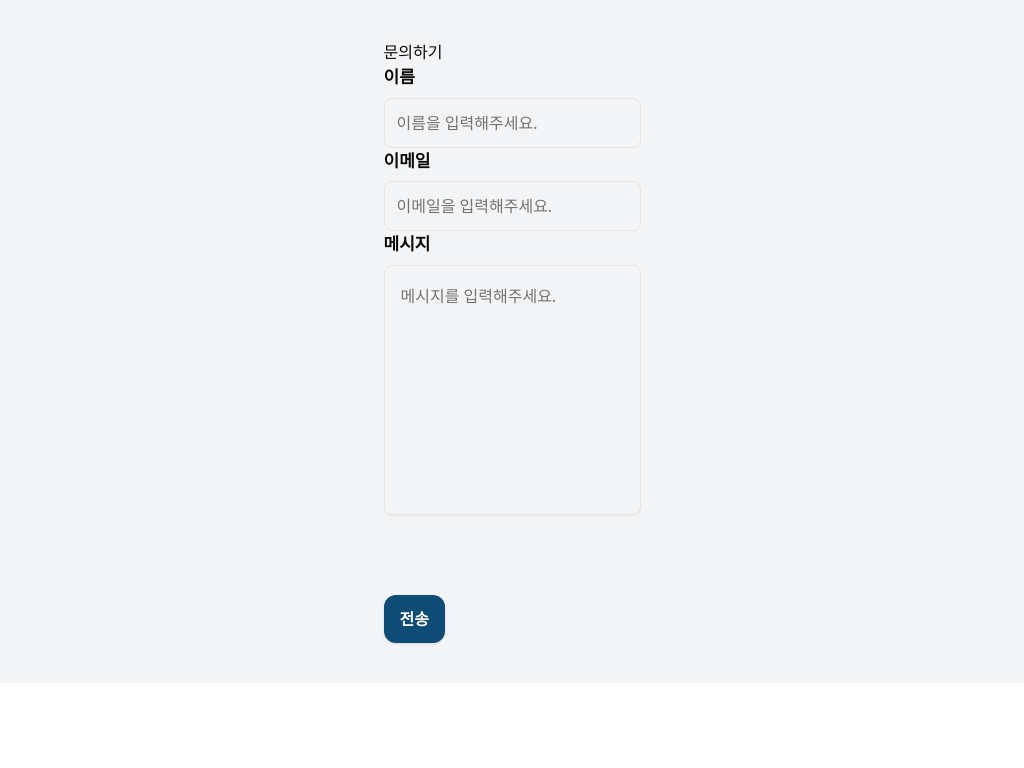
Test: src/views/contact/ui/ContactPage.tsx › 통합 테스트 › 올바른 값을 입력 후 제출할 수 있다.
In the field with placeholder "이름을 입력해주세요.": point(512, 122) [384,98,640,148], type "지민"
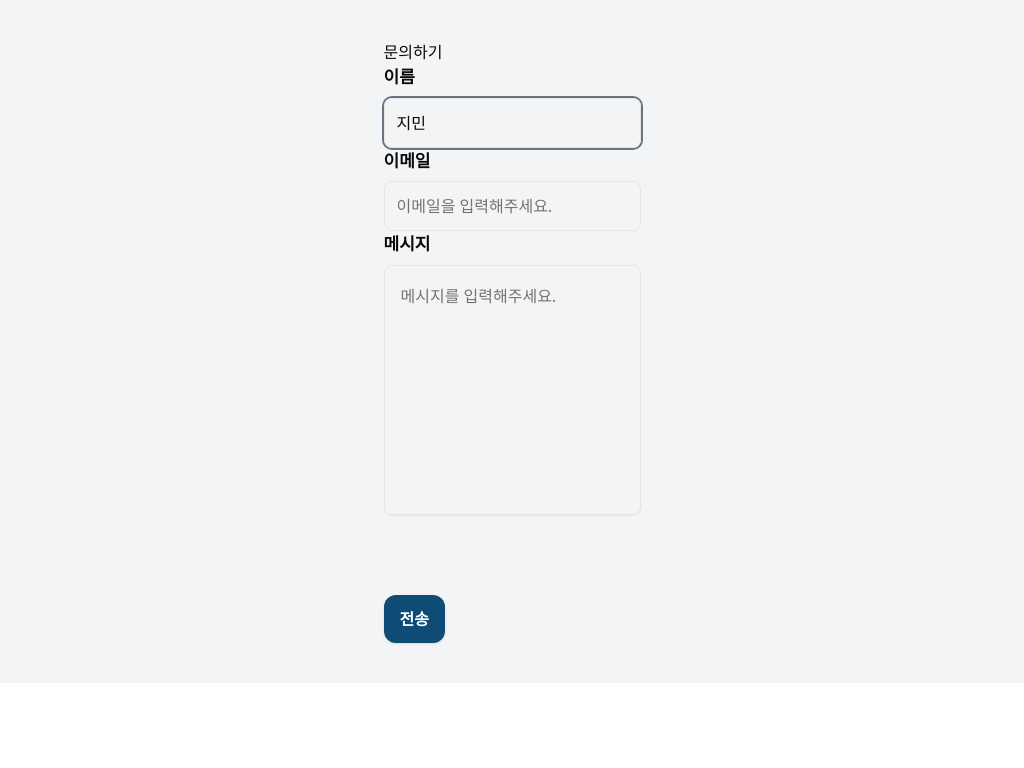
In the field with placeholder "이메일을 입력해주세요.": point(512, 206) [384,181,640,231], type "jimin@email.com"
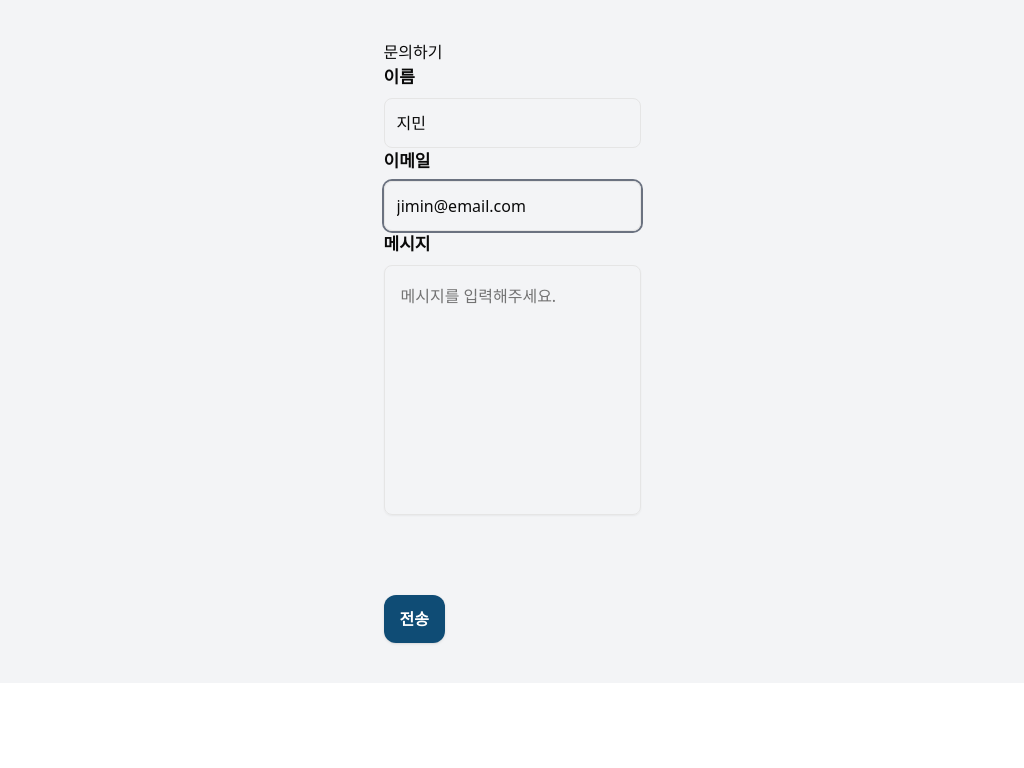
In the text box with placeholder "메시지를 입력해주세요.": point(512, 390) [384,264,640,514], type "안녕하세요"
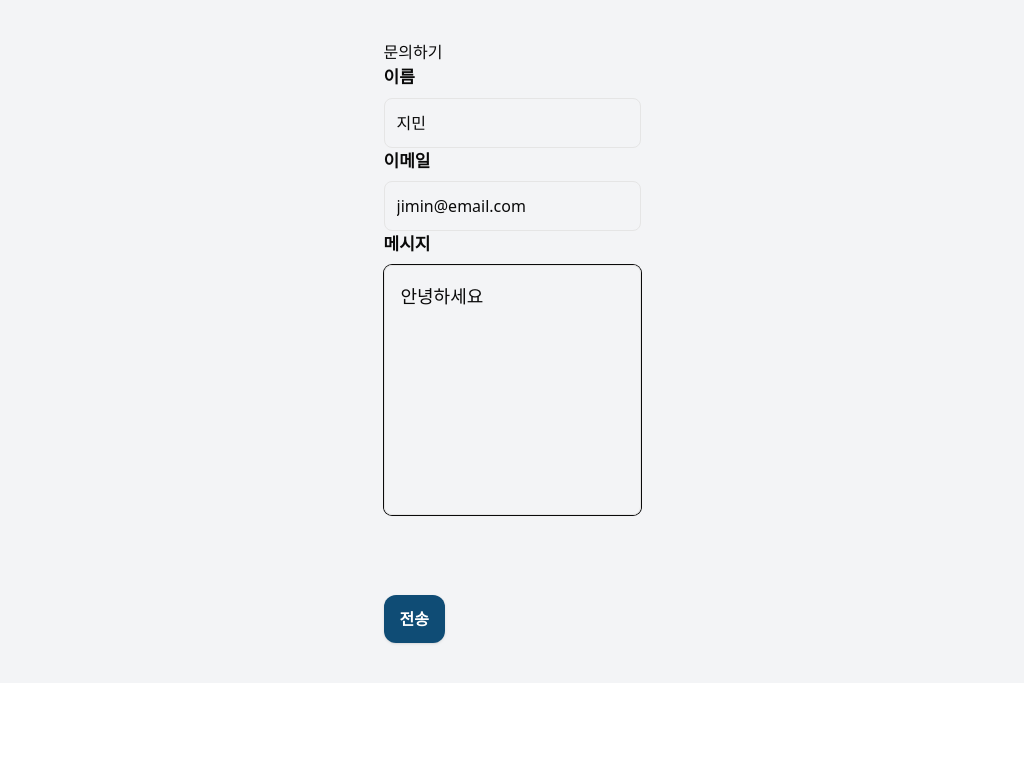
Click the button "전송": point(414, 618) [384,594,445,642]
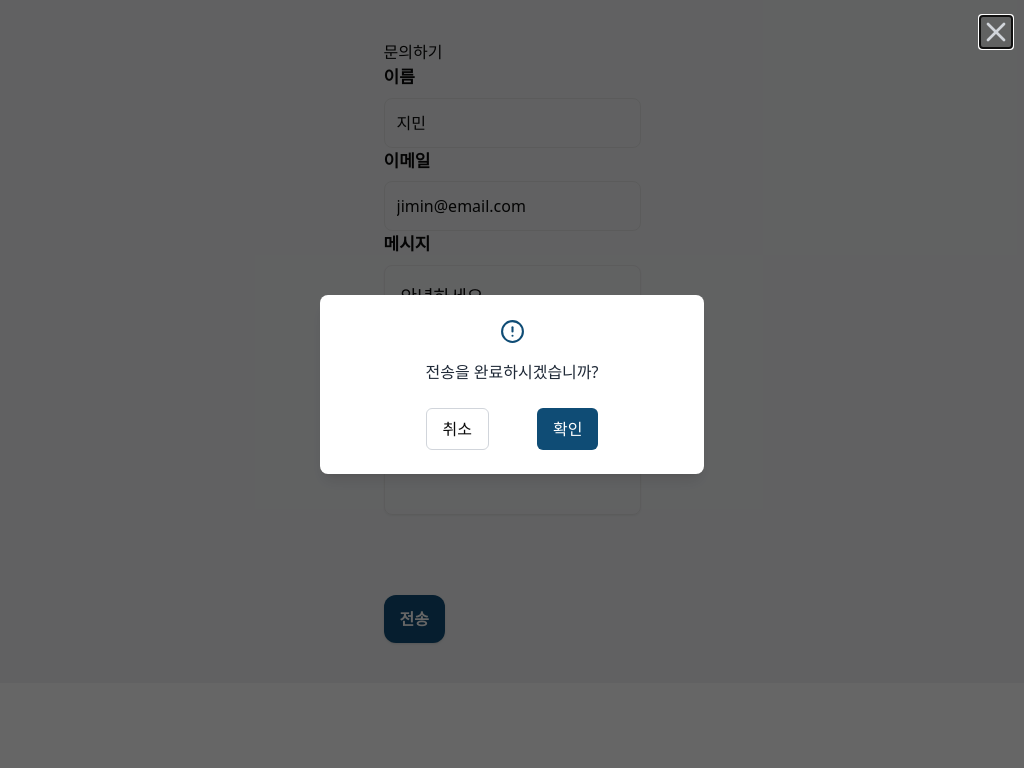
Expected: the text "전송을 완료하시겠습니까?" is shown, [426,360,598,382]
Click the button "확인": point(568, 428) [537,408,598,450]
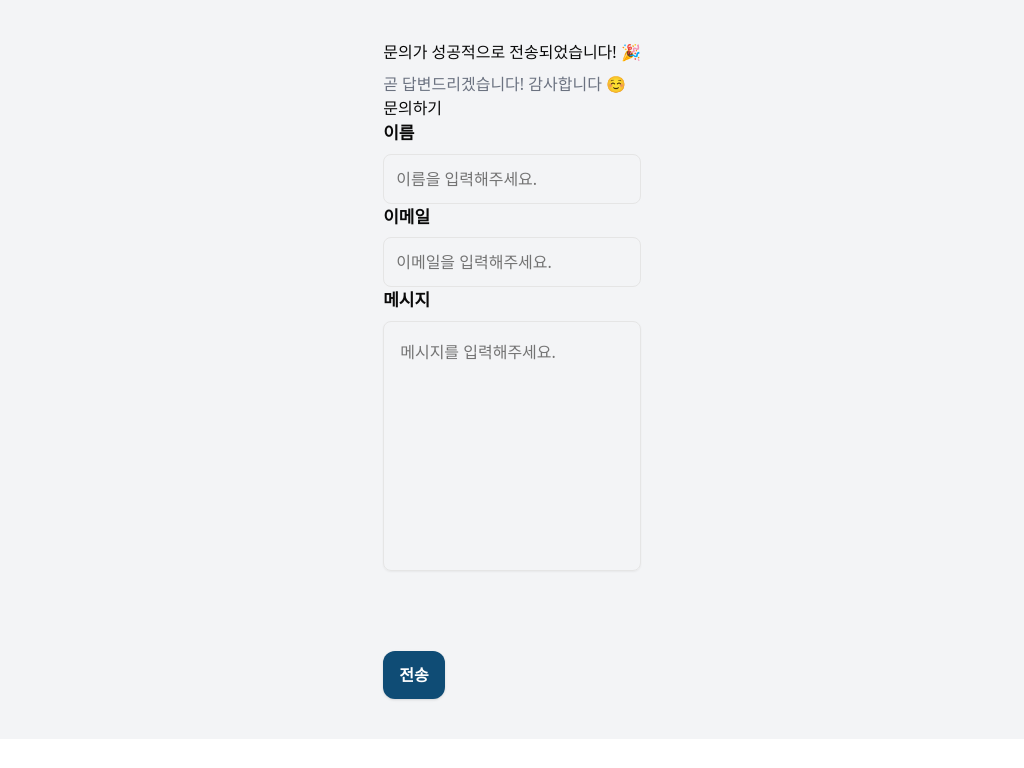
Expected: the field showing "지민" is not shown
Expected: the heading "문의가 성공적으로 전송되었습니다! 🎉" is shown, [383,41,641,63]
Expected: the text "전송을 완료하시겠습니까?" is gone
